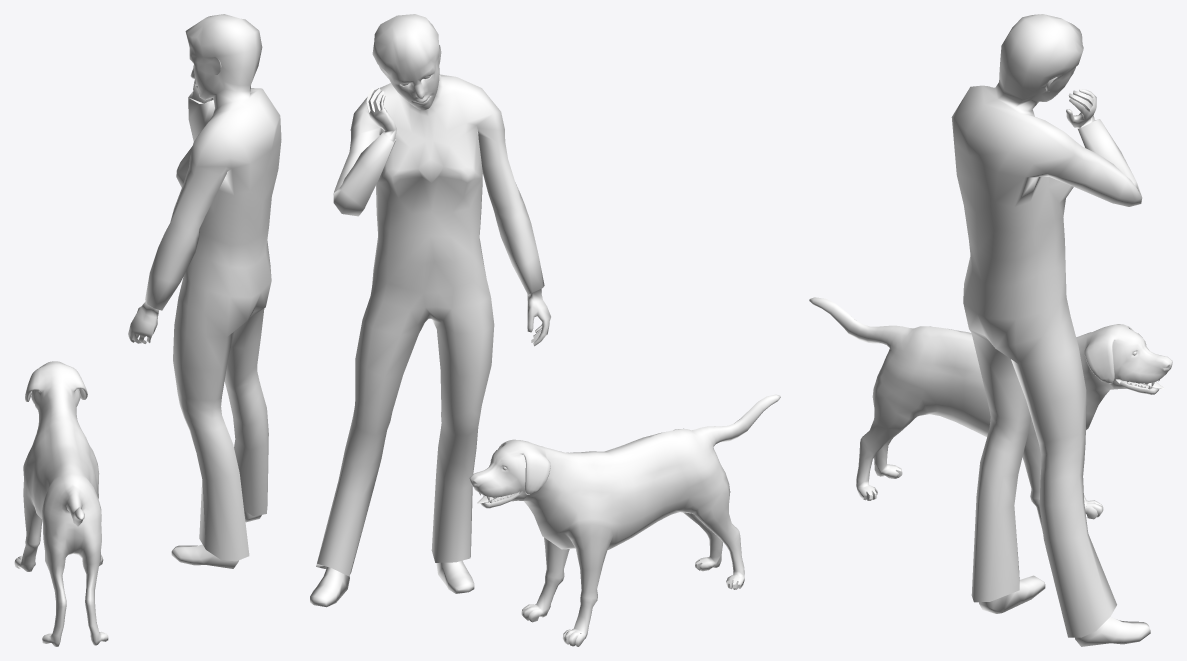
File: 1human_and_dog.glb
3 renders of one model, left to right at view 1: azimuth 30°, elevation 25°; view 2: azimuth 150°, elevation 25°; view 3: azimuth 270°, elevation 25°, orthographic. The views are drawn at different scales.
Visible parts, largest first — view 1: human_and_dog, labrador001; view 2: human_and_dog, labrador001; view 3: human_and_dog, labrador001.
Boxes of the visible parts, x1=… form: human_and_dog: x1=128, y1=14, x2=281, y2=568; labrador001: x1=14, y1=361, x2=108, y2=646; human_and_dog: x1=310, y1=14, x2=550, y2=607; labrador001: x1=469, y1=394, x2=780, y2=646; human_and_dog: x1=951, y1=14, x2=1150, y2=646; labrador001: x1=809, y1=297, x2=1172, y2=532.
Size of the model in its own units: 1.06 by 1.74 by 0.9537.
Materials: 1 (1 with a texture image).
